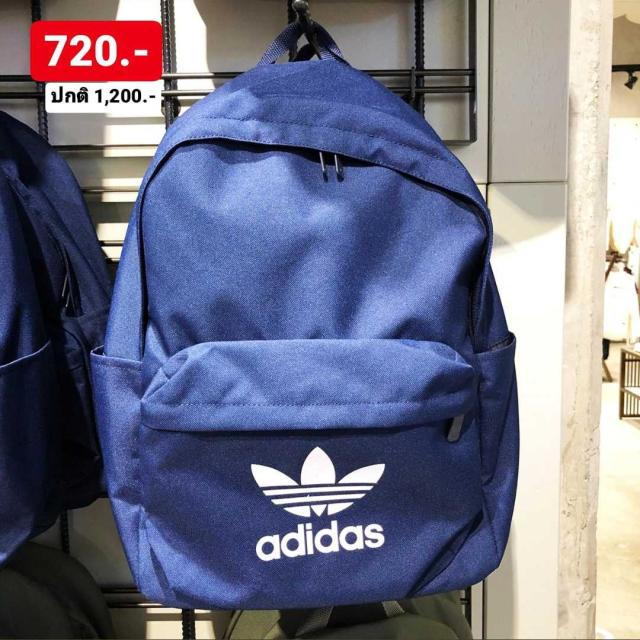Handbag: (90, 0, 546, 609)
